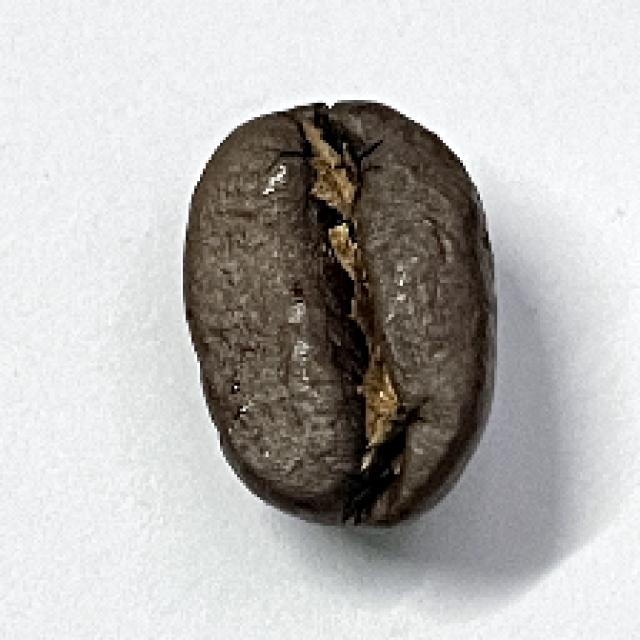bean: (175, 91, 504, 533)
